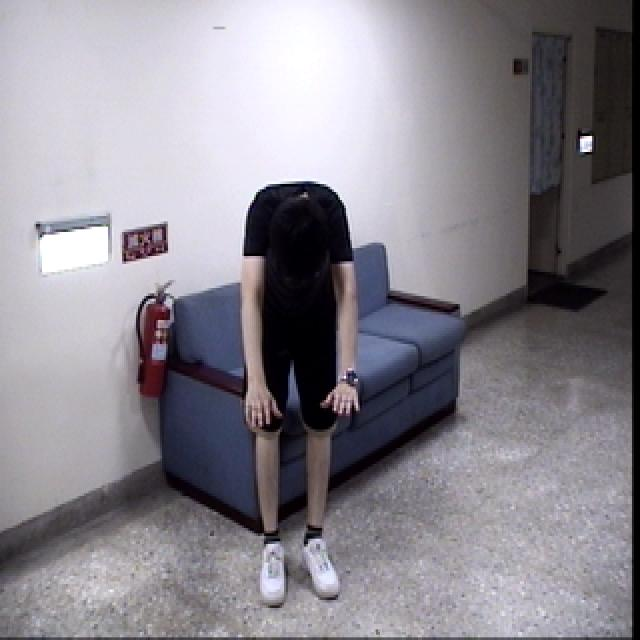bend: (226, 172, 374, 607)
